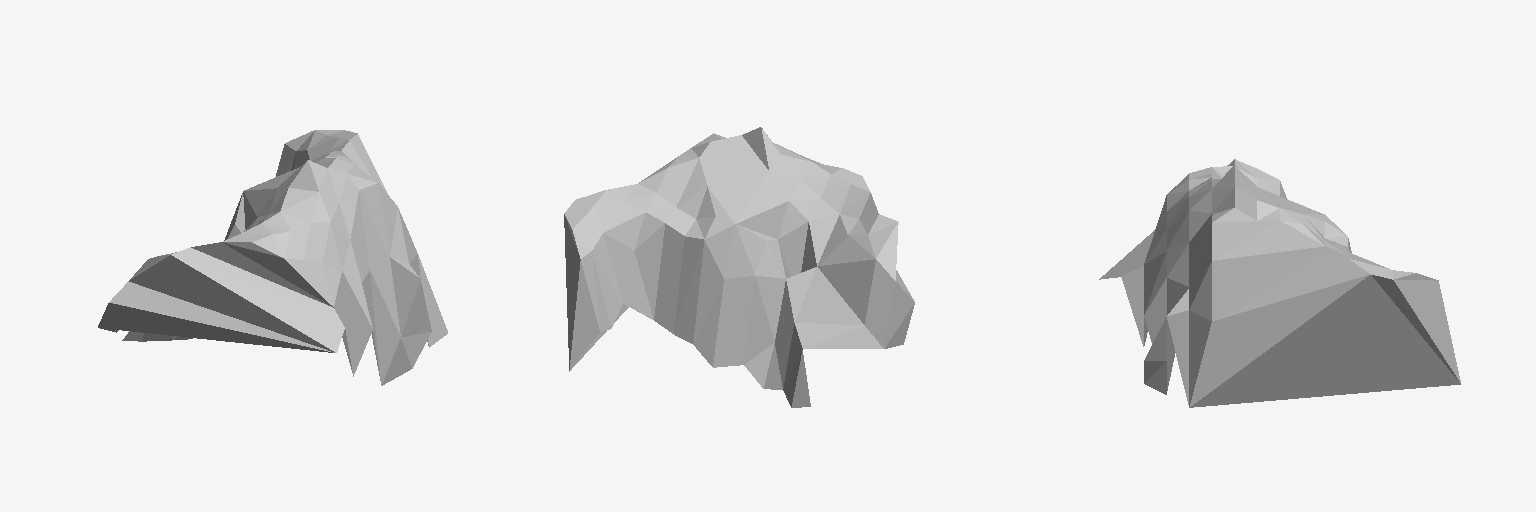
Rendered from tree_59.obj.
The picture shows the model from 3 angles: view 1: azimuth 30°, elevation 25°; view 2: azimuth 150°, elevation 25°; view 3: azimuth 270°, elevation 25°; orthographic projection.
Visible parts, largest first — view 1: tree_59.001; view 2: tree_59.001; view 3: tree_59.001.
Part boxes in pixels (left/top/right/bottom): tree_59.001: left=98, top=130, right=447, bottom=385; tree_59.001: left=564, top=127, right=914, bottom=407; tree_59.001: left=1099, top=159, right=1460, bottom=407.
Size of the model in its own units: 15 by 10.27 by 16.